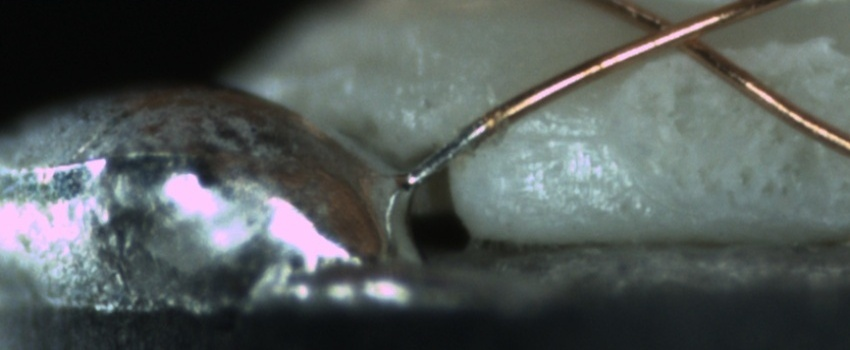CL: (624, 2, 729, 64)
DL: (508, 103, 605, 167)
TS: (407, 121, 486, 188)
TTCW: (404, 106, 497, 186)
